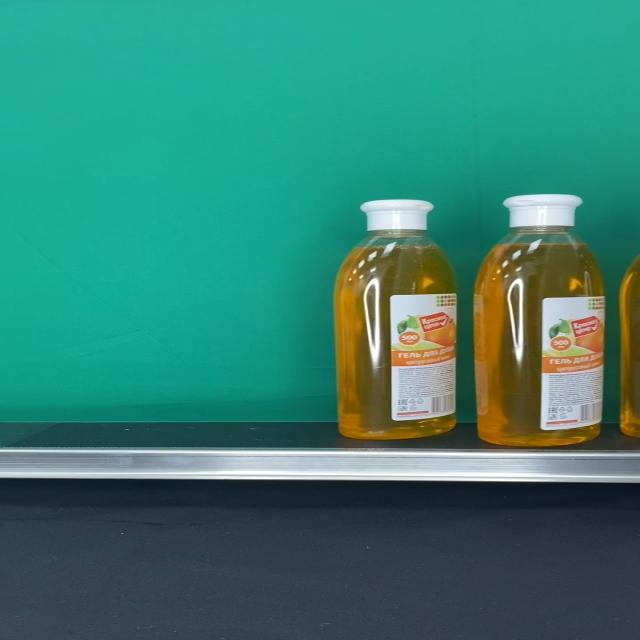Bottle: (472, 195, 605, 446), (335, 200, 457, 439)
Cap: (502, 195, 584, 228), (360, 200, 435, 230)
